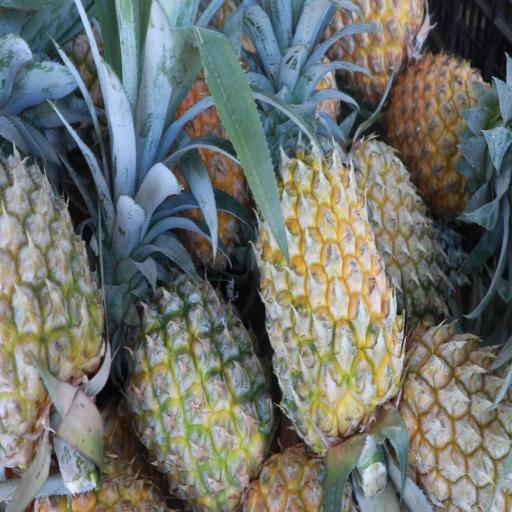------------------------------: (0, 162, 97, 469)
Pineapple - v8 v1: (262, 156, 398, 444), (135, 274, 270, 501), (396, 56, 498, 197), (332, 0, 425, 92)
